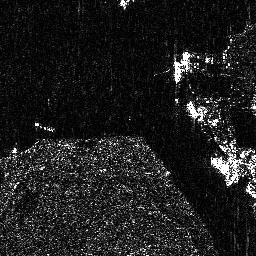ship: (209, 154, 241, 184), (172, 61, 184, 83)
